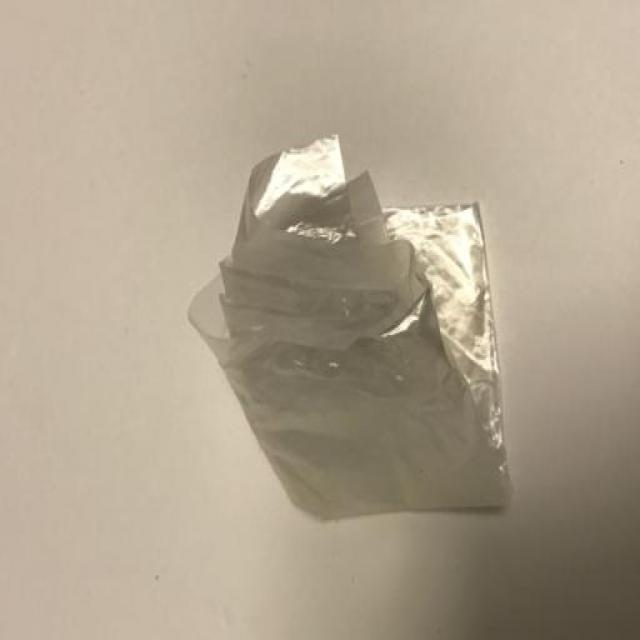plastic: (173, 119, 560, 544)
